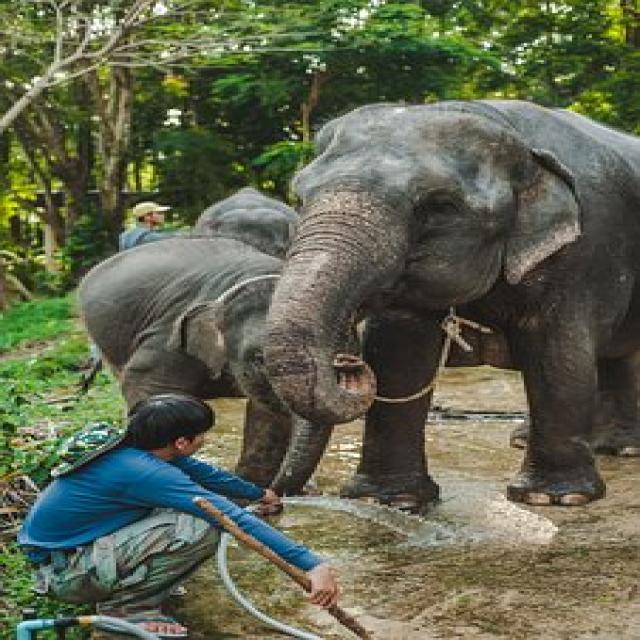Elephant: (249, 49, 640, 528), (64, 203, 353, 500)
